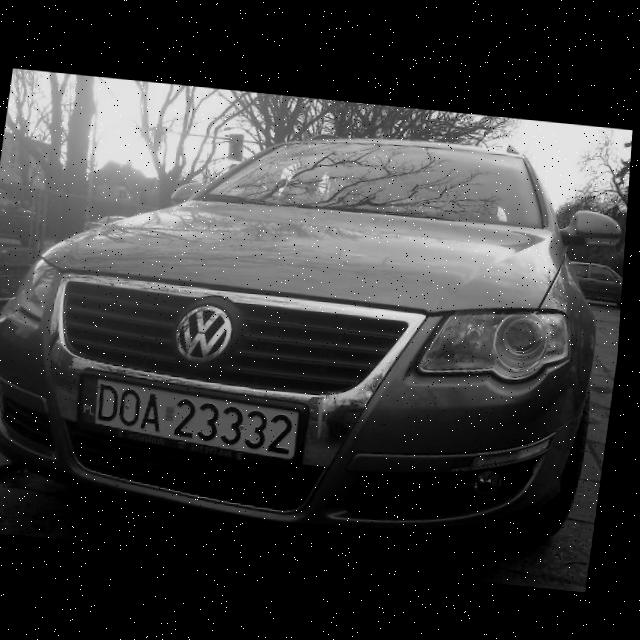license-plates: (79, 377, 300, 461)
